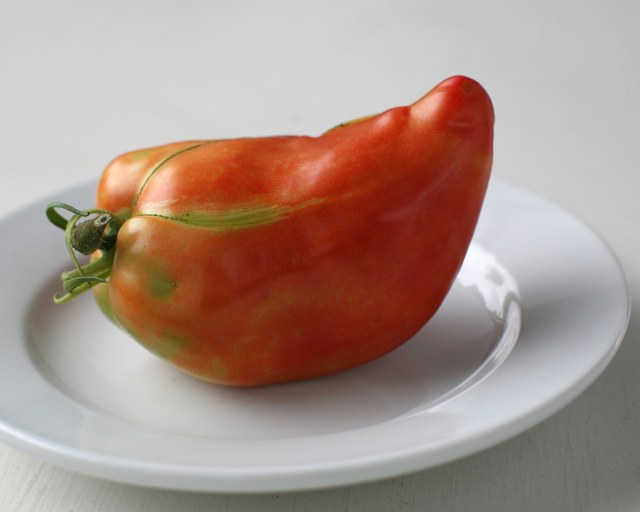tomato: (45, 74, 496, 387)
